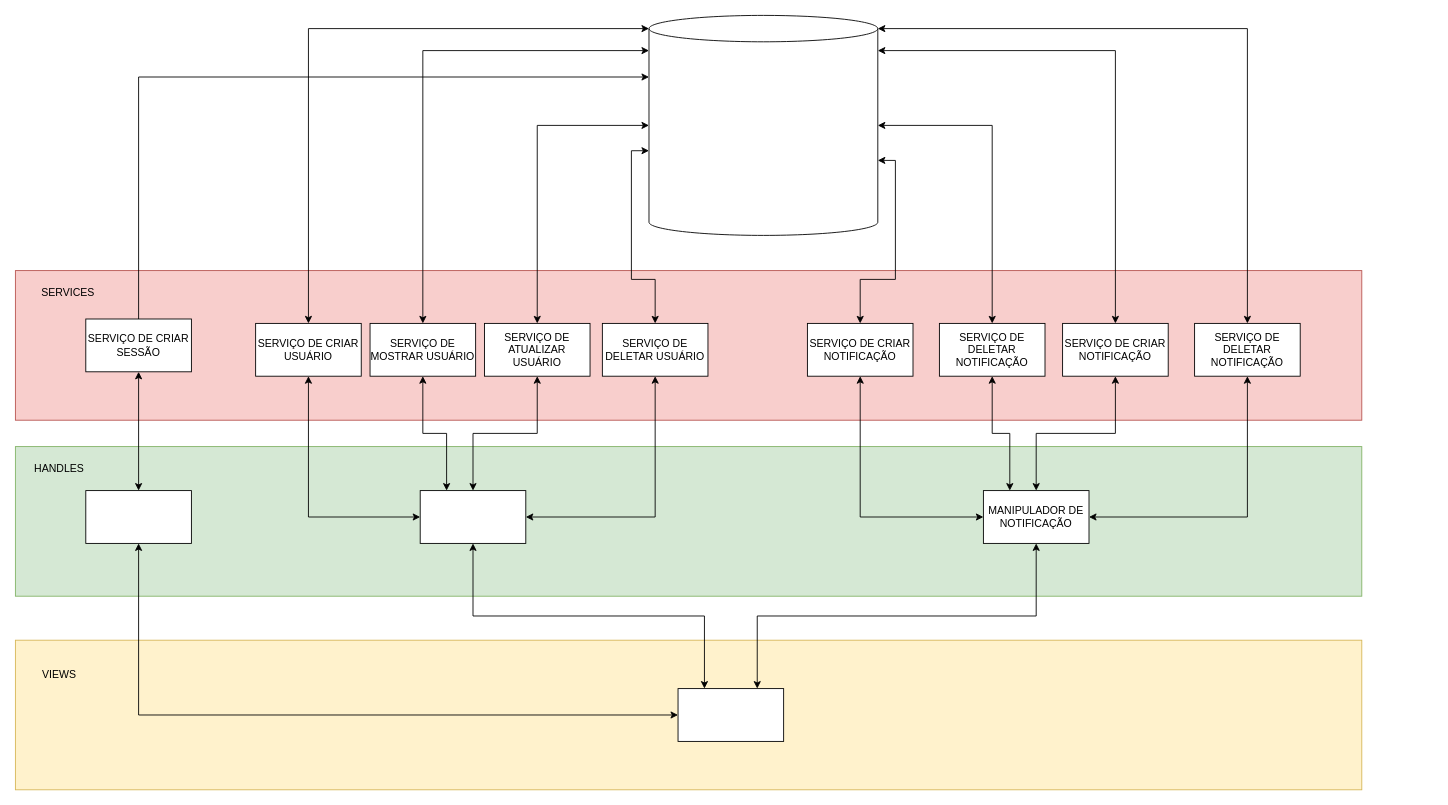
This 1448x805 diagram has some shape labels left out. The box of each missing label's shape, as (x1, y1, x2, y2) in pixels:
API: (648, 15, 878, 235)
COMPONENTES: (677, 688, 784, 741)
MANIPULADOR DA SESSÃO: (85, 490, 191, 543)
MANIPULADOR DE USUÁRIO: (419, 490, 526, 543)
